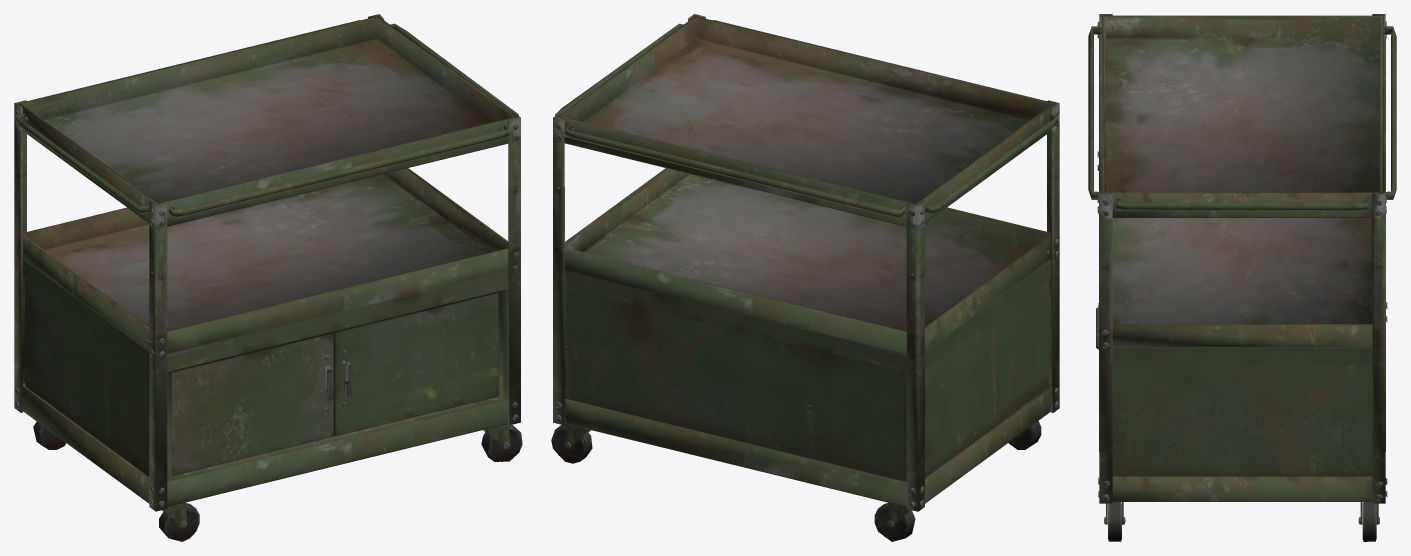
The model's file is storecart.glb.
The picture shows the model from 3 angles, left to right: view 1: azimuth 30°, elevation 25°; view 2: azimuth 150°, elevation 25°; view 3: azimuth 270°, elevation 25°; orthographic projection.
Parts seen in each view (by area): view 1: industrial_storage_cart; view 2: industrial_storage_cart; view 3: industrial_storage_cart.
Part boxes in pixels (box(x1,y1,x2,y2)): industrial_storage_cart: box(14, 14, 522, 541); industrial_storage_cart: box(551, 14, 1059, 541); industrial_storage_cart: box(1088, 14, 1396, 541).
Size of the model in its own units: 1.6 by 1.38 by 1.1.
1 material, 1 textured.
